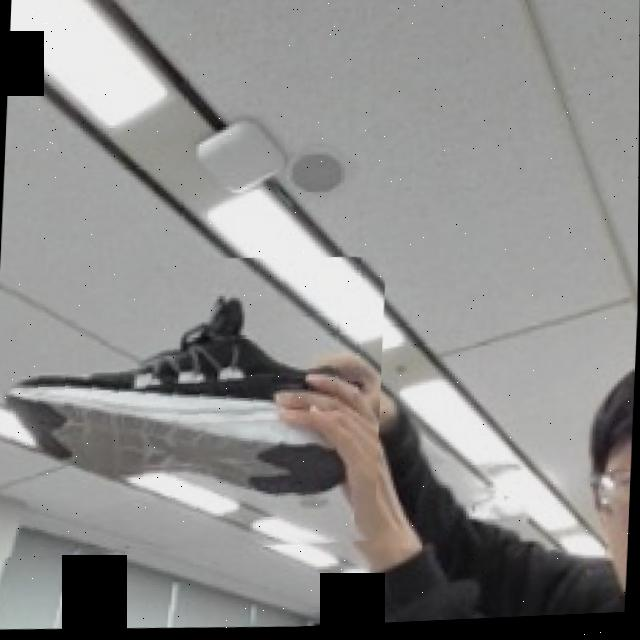shoe: (0, 246, 385, 571)
